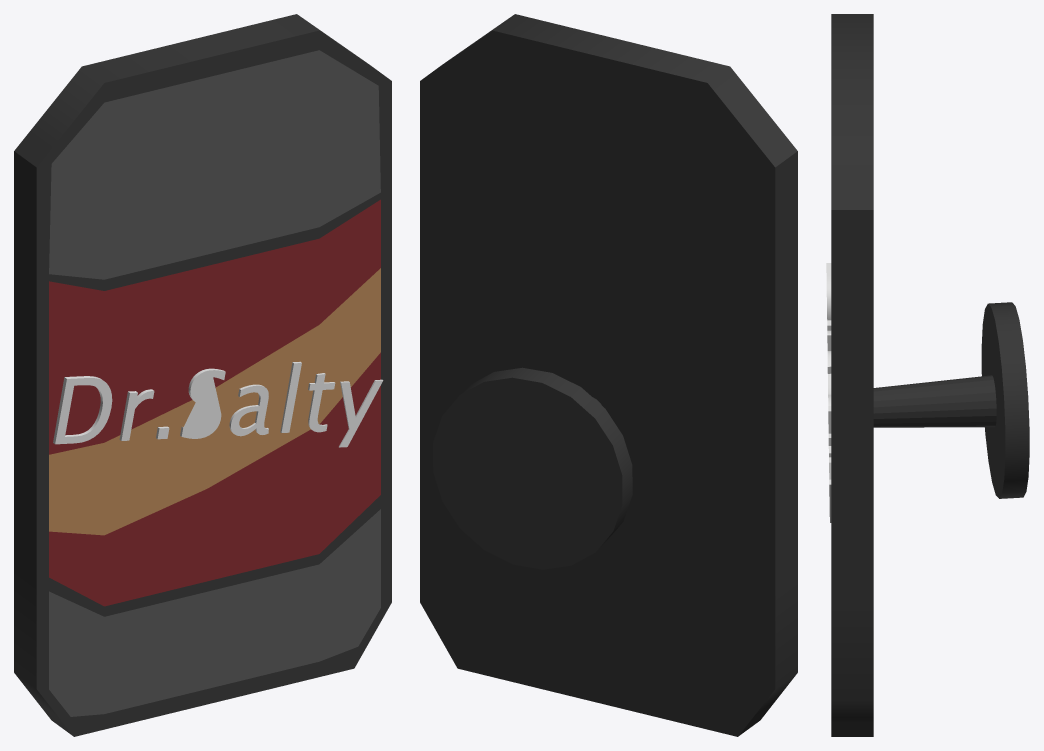
Rendered from Dr.salty.fbx.
3 views of the same model, side by side, from view 1: azimuth 30°, elevation 25°; view 2: azimuth 150°, elevation 25°; view 3: azimuth 270°, elevation 25° (orthographic). The views are drawn at different scales.
Visible parts, largest first — view 1: pCylinder6; view 2: pCylinder6; view 3: pCylinder6.
Boxes of the visible parts, <box> form: pCylinder6: <box>14,14,391,736</box>; pCylinder6: <box>420,14,797,736</box>; pCylinder6: <box>826,14,1029,736</box>.
Bounding box in the file's own units: 2.87 × 4.99 × 1.51.
